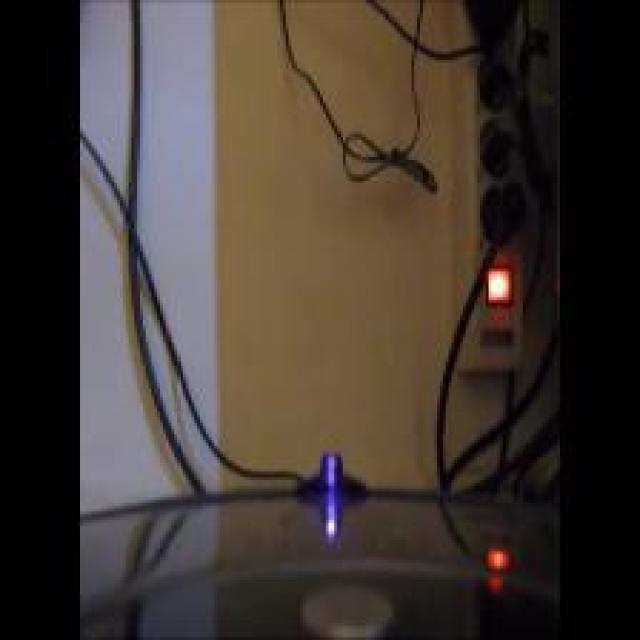other: (468, 532, 530, 601), (469, 241, 522, 318)
